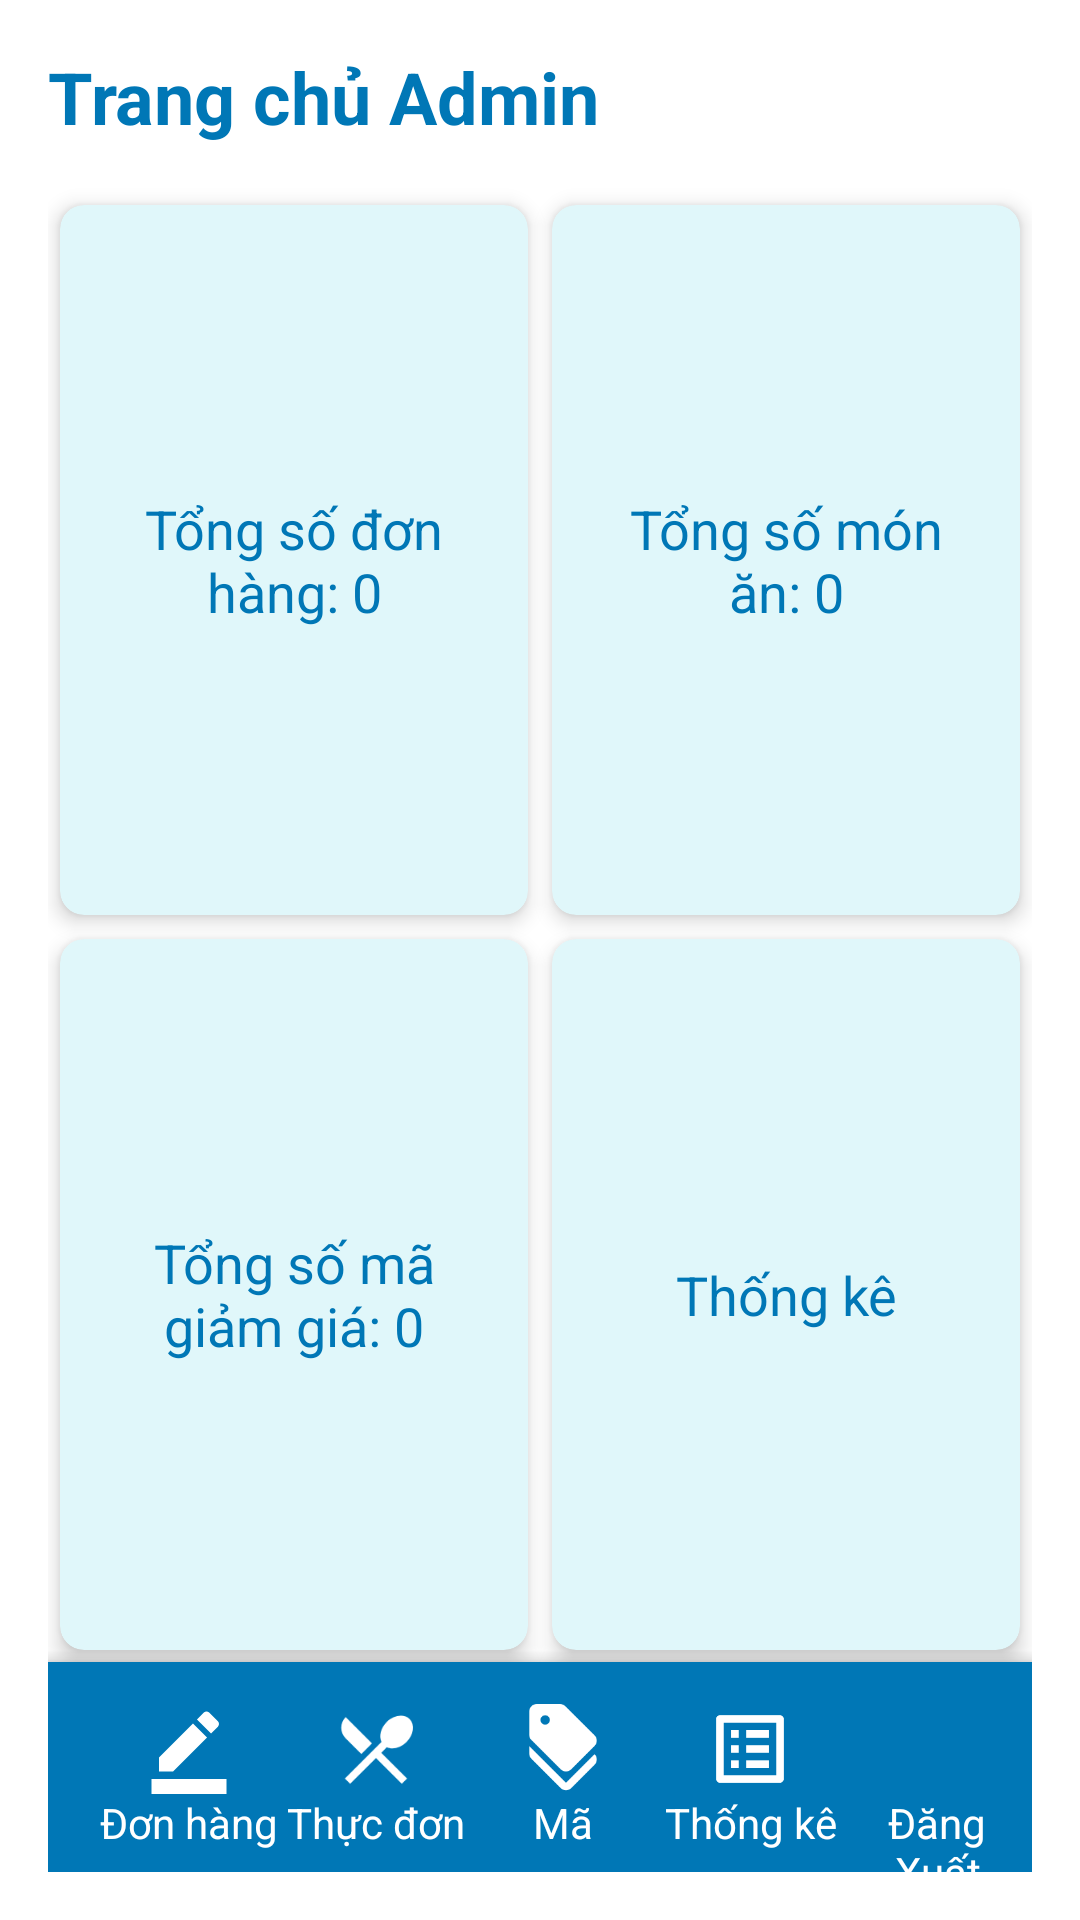

Locate icon controls on the screen. Image size 1080 × 1920, boxes as region(x1, y1, x2, y2).
discount: region(529, 1704, 597, 1791)
list: region(716, 1715, 784, 1783)
